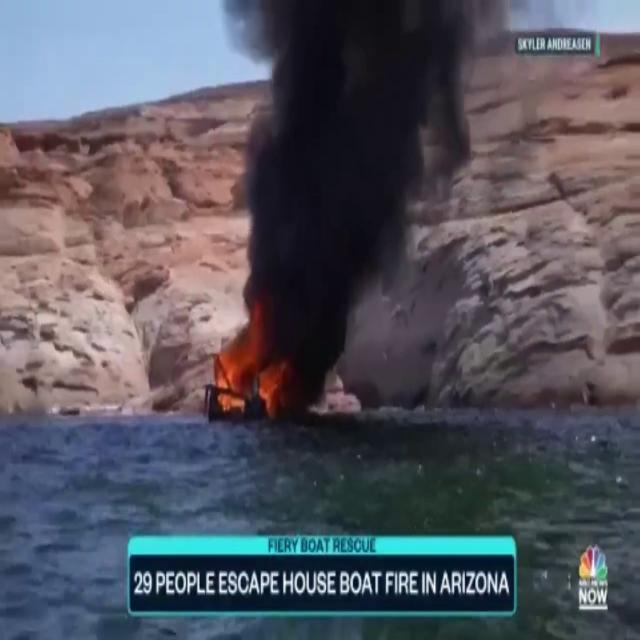Fire: (212, 324, 288, 422)
Smoke: (229, 1, 486, 406)
